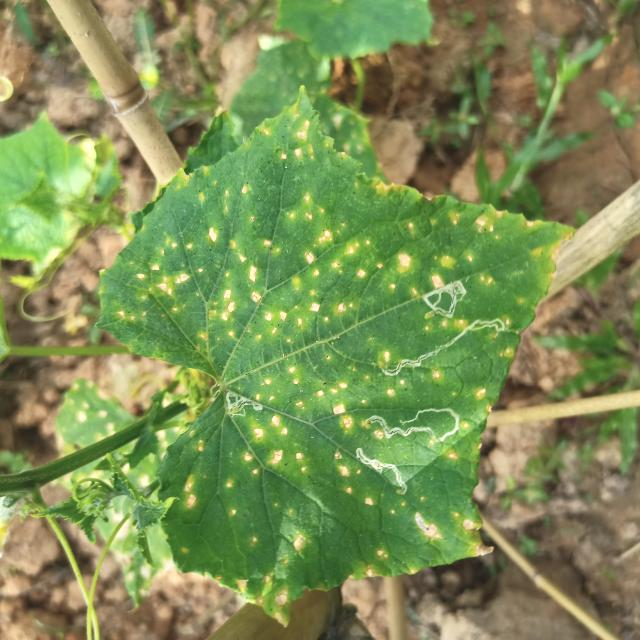disease_cucumber: (123, 120, 518, 362), (195, 414, 309, 510), (253, 365, 354, 445), (239, 530, 307, 624), (392, 497, 491, 558), (330, 451, 374, 511), (385, 369, 442, 397), (344, 547, 388, 577), (184, 471, 196, 514)
